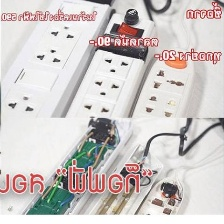three_eye_plug: (0, 0, 120, 118), (16, 116, 134, 224), (61, 4, 162, 118), (77, 139, 166, 224), (129, 42, 198, 119), (136, 172, 185, 224)
